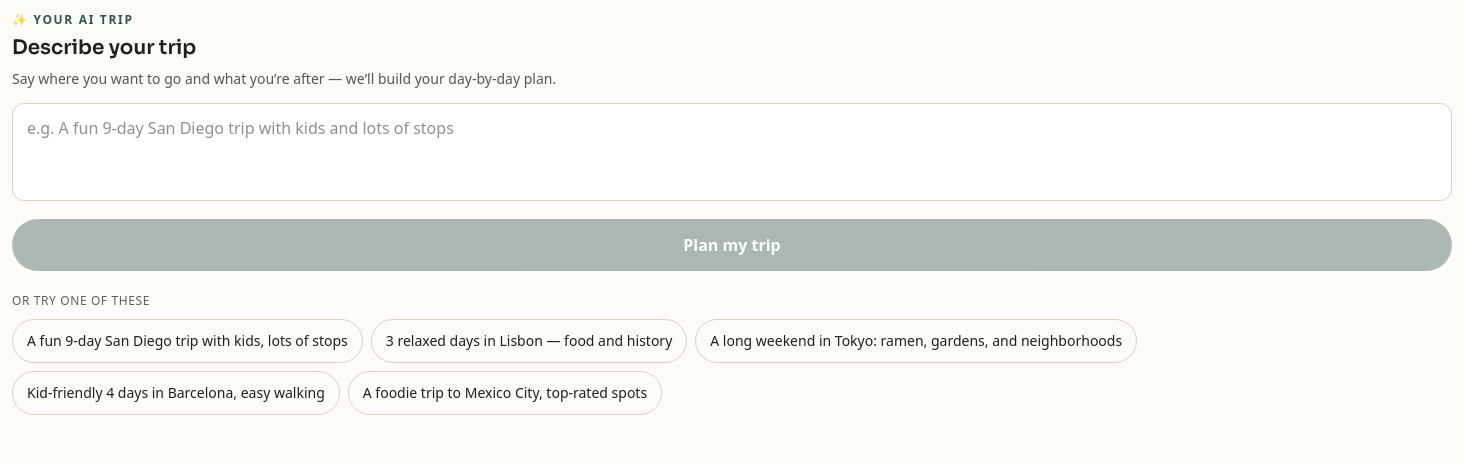
Scenario: HomeAiPlanner › shows an error and does not navigate when planning fails
Type "anything" into the text box with placeholder "e.g. A fun 9-day San Diego trip with kids and lots of stops" at (732, 152), box [12,103,1452,201]
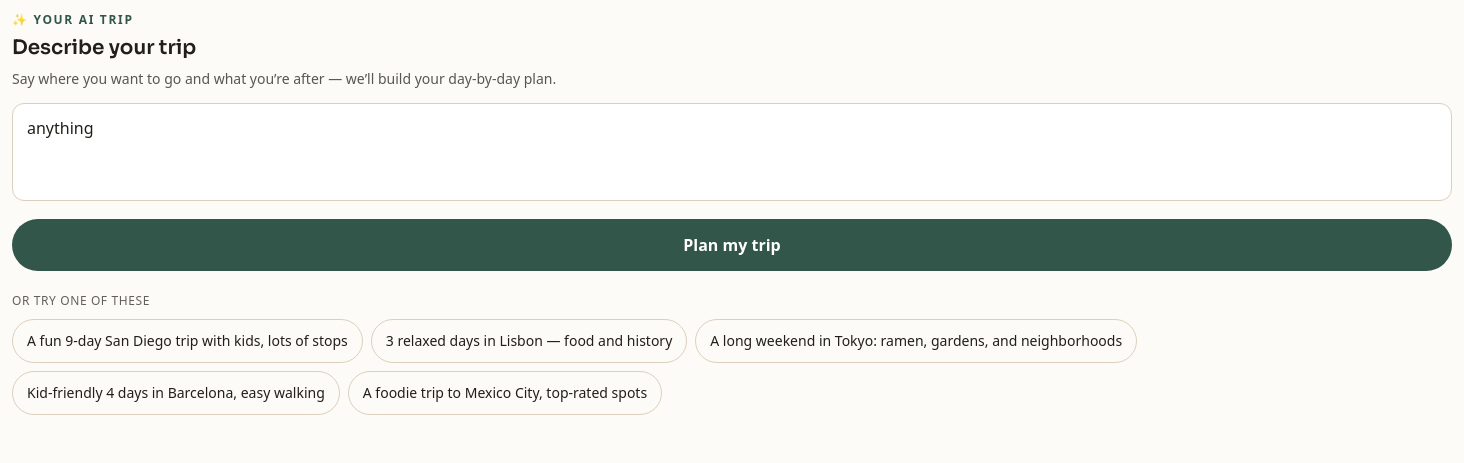
Click the button "Plan my trip" at (732, 245), box [12,219,1452,271]
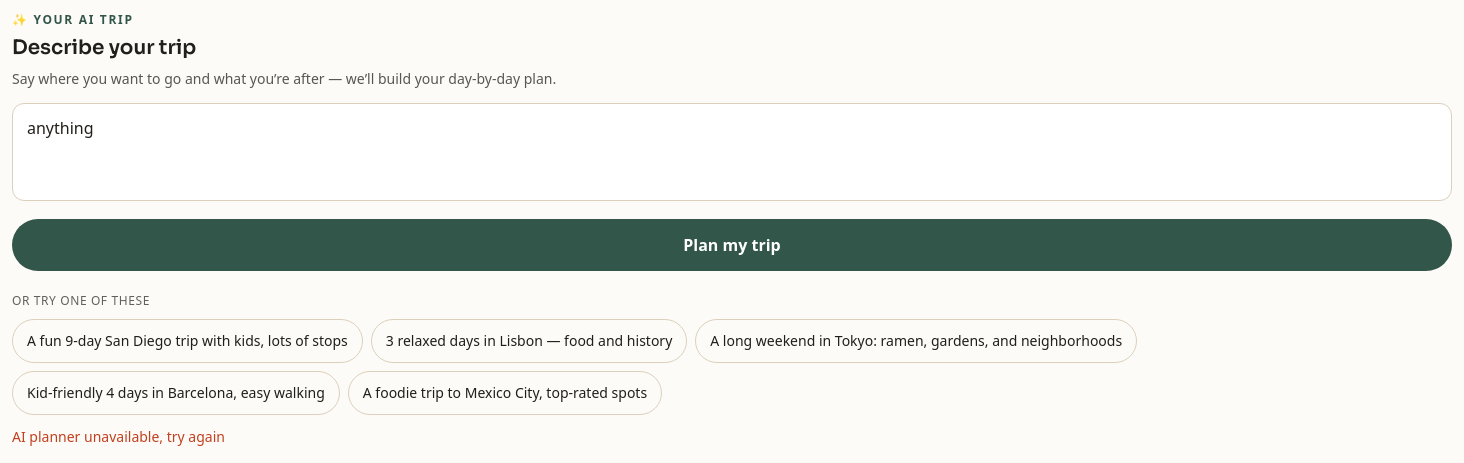
Now the message shows "unavailable", box [12,427,225,446]
